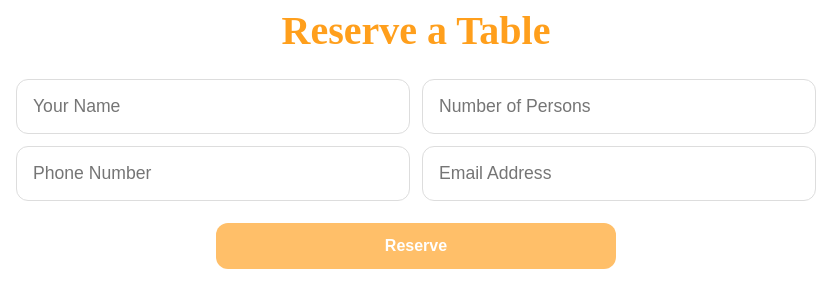
Test: ReservationCard Component › submits the form and resets fields when all data is valid
Fill the form with valid data
Type "Jane Doe" into the field with placeholder "Your Name" at (213, 107), box [16, 79, 410, 134]
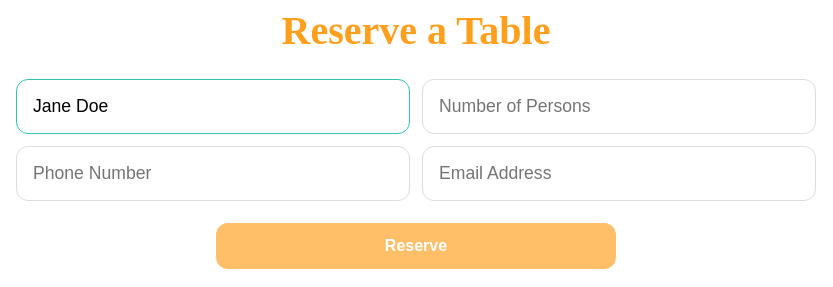
Type "4" into the number field with placeholder "Number of Persons" at (619, 107), box [422, 79, 816, 134]
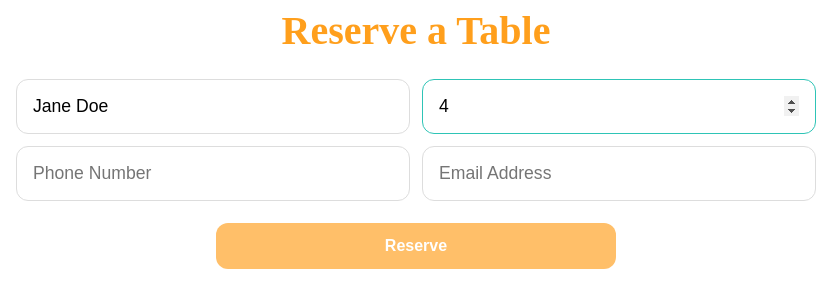
Type "1234567890" into the field with placeholder "Phone Number" at (213, 174), box [16, 146, 410, 201]
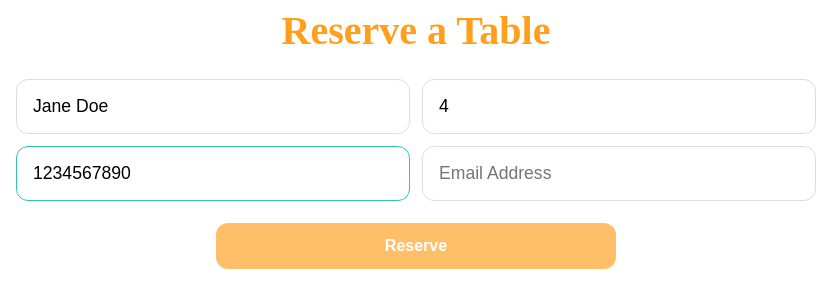
Type "jane.doe@example.com" into the field with placeholder "Email Address" at (619, 174), box [422, 146, 816, 201]
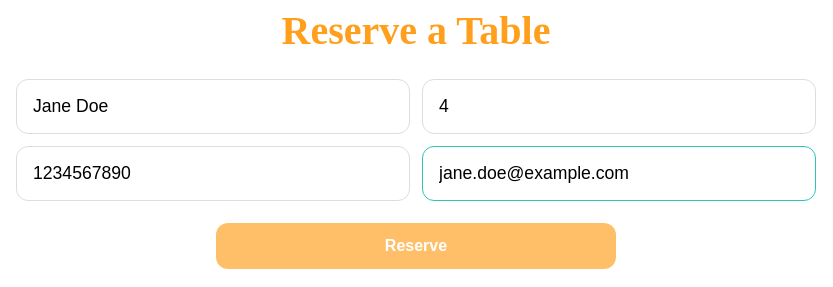
Submit the form
Click the button "Reserve" at (416, 246), box [216, 223, 616, 269]
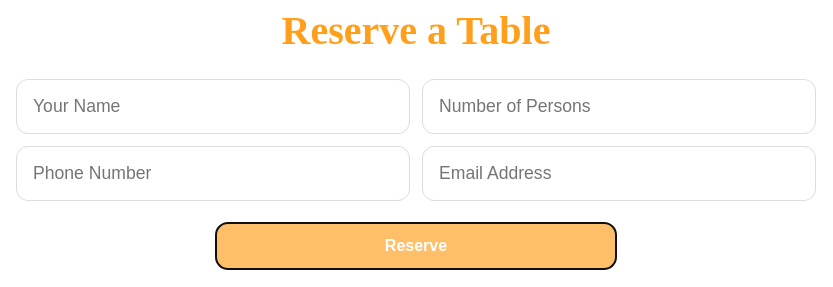
Result: the field with placeholder "Your Name" is empty at [16, 79, 410, 134]
Result: the number field with placeholder "Number of Persons" is not empty at [422, 79, 816, 134]
Result: the field with placeholder "Phone Number" is empty at [16, 146, 410, 201]
